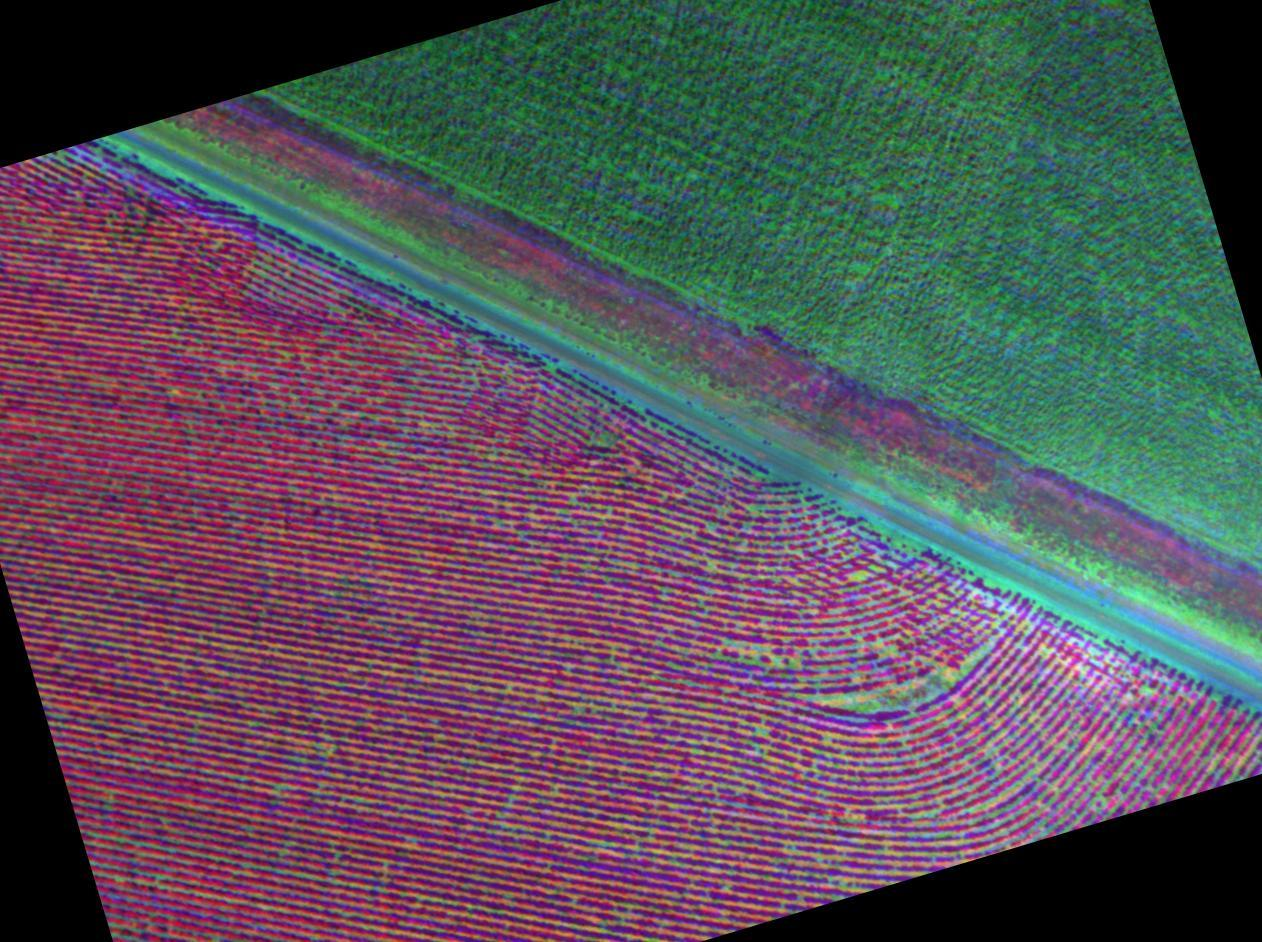dc: (791, 650, 987, 724), (1058, 645, 1155, 707), (666, 490, 751, 555), (691, 613, 778, 672)
